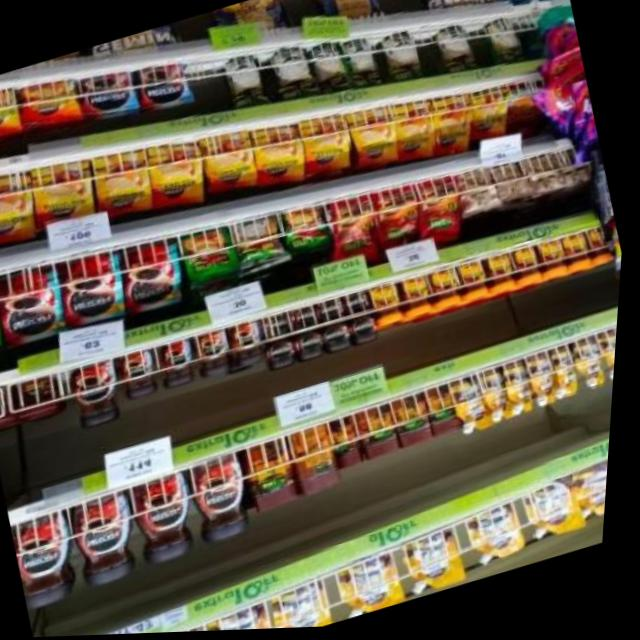Coffee: (11, 507, 92, 612), (128, 469, 211, 567), (72, 490, 152, 589), (186, 452, 264, 550), (0, 262, 75, 349), (58, 249, 132, 328), (28, 157, 102, 234), (119, 238, 190, 314), (143, 137, 212, 209), (67, 357, 134, 431), (90, 148, 159, 218), (199, 128, 263, 195), (249, 123, 311, 187), (298, 114, 356, 178), (347, 106, 402, 170), (19, 74, 82, 129), (77, 65, 141, 119), (387, 101, 440, 162), (0, 169, 41, 246), (429, 95, 480, 156), (463, 88, 515, 145), (135, 60, 192, 110), (120, 348, 165, 400), (157, 337, 201, 389), (197, 329, 239, 378), (232, 320, 270, 368), (373, 284, 408, 332), (403, 276, 439, 322), (432, 268, 468, 313), (486, 254, 520, 296), (459, 263, 492, 304), (515, 249, 547, 289), (565, 236, 595, 275), (0, 85, 22, 137), (542, 242, 570, 281), (270, 339, 303, 372), (262, 313, 296, 343), (591, 230, 618, 267), (324, 321, 355, 353), (298, 328, 327, 362), (352, 314, 381, 345), (294, 304, 322, 333), (321, 297, 348, 323), (347, 294, 374, 317)
